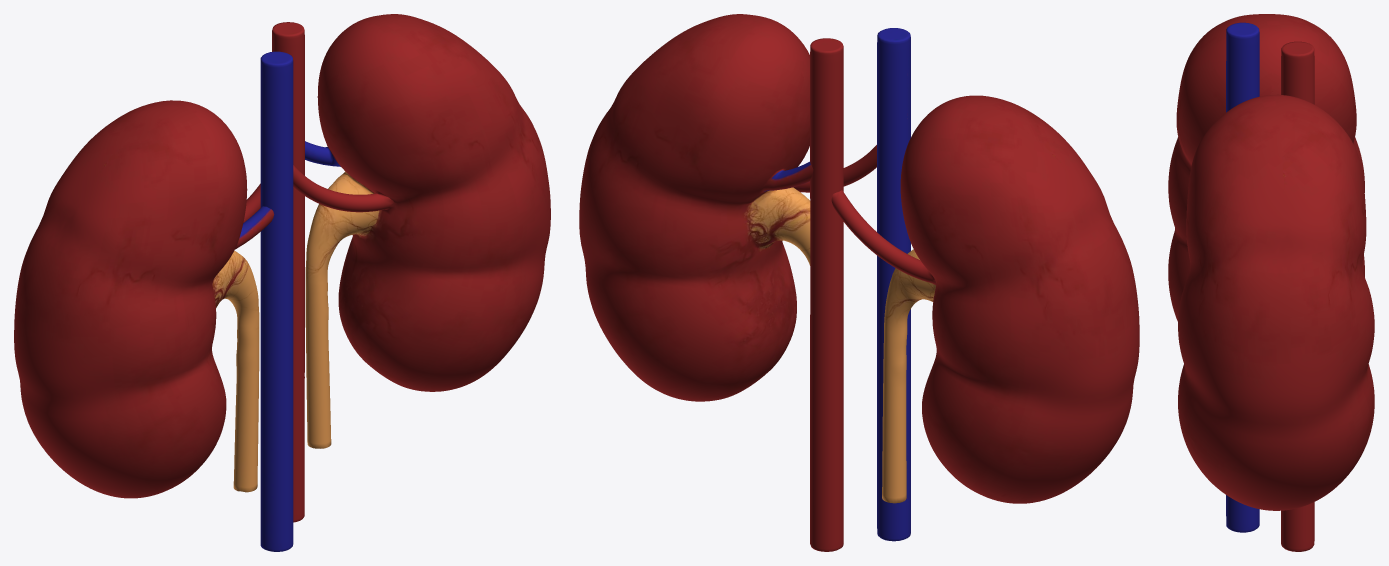
File: kidneys.glb
3 views of the same model, side by side, from view 1: azimuth 30°, elevation 25°; view 2: azimuth 150°, elevation 25°; view 3: azimuth 270°, elevation 25° (orthographic). The views are drawn at different scales.
Parts seen in each view (by area): view 1: kidney02:kidney03:Group12708_Kidney Tex_0, Group12708_Kidney Tex_0; view 2: kidney02:kidney03:Group12708_Kidney Tex_0, Group12708_Kidney Tex_0; view 3: Group12708_Kidney Tex_0, kidney02:kidney03:Group12708_Kidney Tex_0.
Boxes of the visible parts, bbox=[...] form: kidney02:kidney03:Group12708_Kidney Tex_0: bbox=[14, 22, 304, 551]; Group12708_Kidney Tex_0: bbox=[293, 14, 550, 448]; kidney02:kidney03:Group12708_Kidney Tex_0: bbox=[810, 28, 1139, 551]; Group12708_Kidney Tex_0: bbox=[579, 14, 876, 401]; Group12708_Kidney Tex_0: bbox=[1178, 94, 1374, 510]; kidney02:kidney03:Group12708_Kidney Tex_0: bbox=[1168, 14, 1364, 551].
Bounding box in the file's own units: 1.72 × 1.55 × 0.5823.
Materials: 1 (1 with a texture image).
